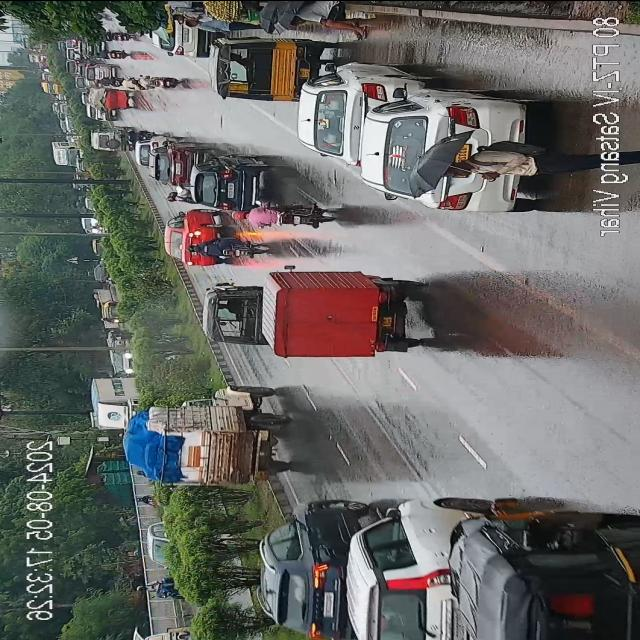2-wheelers: (441, 494, 640, 640), (229, 200, 335, 227), (186, 238, 268, 262), (128, 74, 178, 95), (138, 578, 182, 601), (90, 62, 120, 86), (118, 128, 152, 142), (98, 30, 130, 44), (99, 48, 130, 62)
auto: (262, 268, 424, 364), (212, 35, 322, 102), (200, 282, 266, 346), (90, 87, 140, 109)
car: (342, 493, 486, 640), (253, 493, 359, 640), (364, 84, 494, 200), (304, 67, 412, 162), (192, 160, 264, 213), (165, 211, 218, 267), (154, 6, 204, 56), (154, 140, 198, 186), (143, 521, 171, 567), (91, 122, 125, 152), (86, 100, 111, 120)
pedestrian: (442, 144, 586, 190), (286, 0, 368, 42), (182, 8, 256, 36)
truck: (162, 385, 294, 487), (95, 376, 145, 422)
